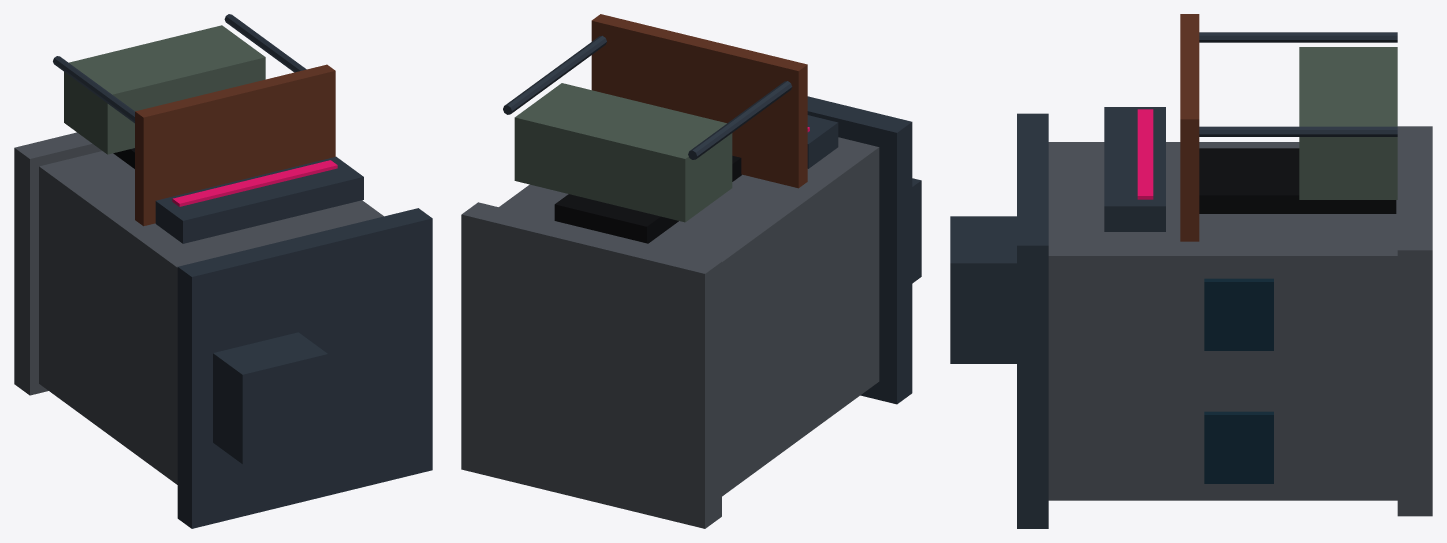
The model's file is ENV_building_noodle.obj.
3 views of the same model, side by side, from view 1: azimuth 30°, elevation 25°; view 2: azimuth 150°, elevation 25°; view 3: azimuth 270°, elevation 25° (orthographic). The views are drawn at different scales.
Parts seen in each view (by area): view 1: ENV_building_noodle; view 2: ENV_building_noodle; view 3: ENV_building_noodle.
Boxes of the visible parts, x1,y1,x2,y2 form: ENV_building_noodle: (14, 14, 432, 528); ENV_building_noodle: (461, 14, 921, 528); ENV_building_noodle: (950, 14, 1432, 528).
Bounding box in the file's own units: 1.97 × 2.75 × 3.04.
